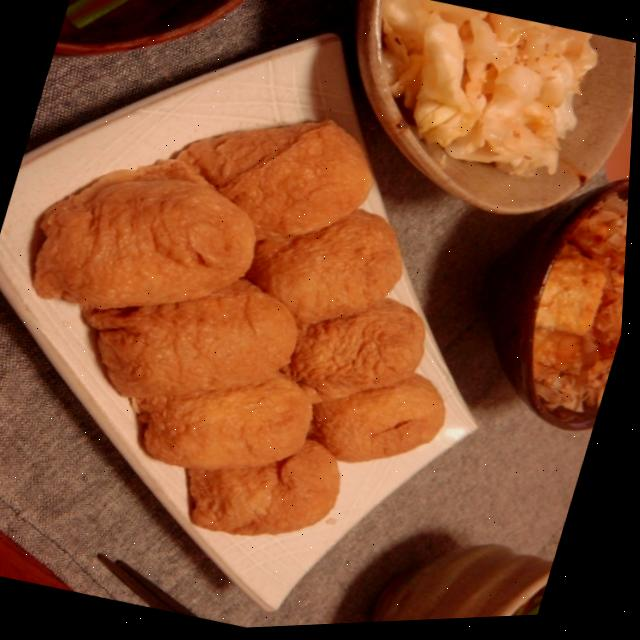寿司卷物: (0, 45, 527, 588)
